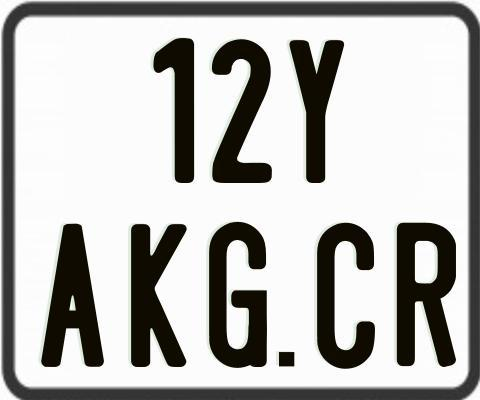1: (152, 37, 199, 185)
2: (209, 39, 275, 183)
A: (41, 221, 108, 366)
C: (316, 222, 380, 373)
G: (208, 221, 270, 372)
K: (131, 224, 187, 369)
R: (395, 223, 454, 367)
Y: (287, 40, 347, 184)
